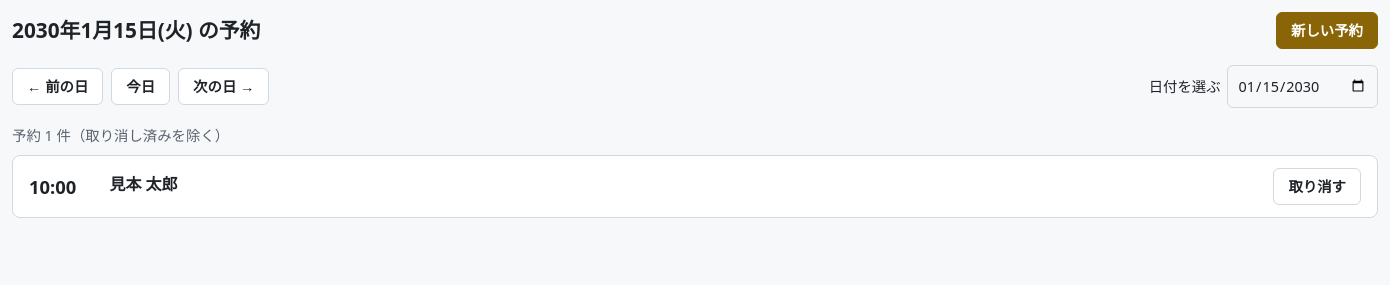
予約の一覧 › 取り消しは確認してから行い、結果を一覧に反映する
Note: 1回押しただけでは取り消さない
Click the button "取り消す" at coordinates (1317, 187), box left=1273, top=168, right=1361, bottom=205
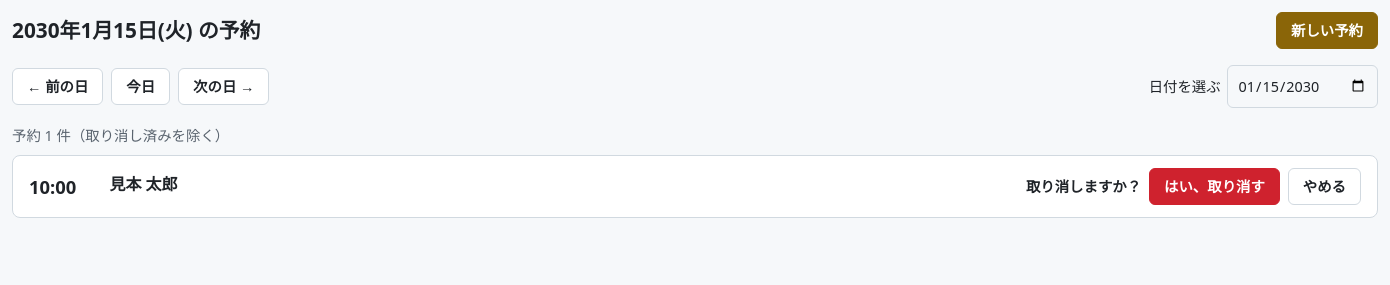
Now the list item with test id "reservation-1" shows "取り消しますか？", box left=1026, top=177, right=1141, bottom=196
Click the button with class "btn-danger" at coordinates (1214, 187), box left=1149, top=168, right=1280, bottom=205
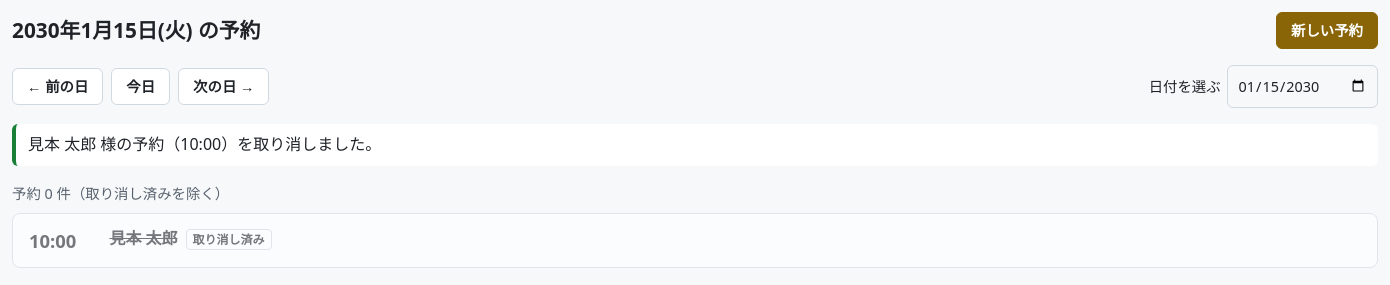
Now the list item with test id "reservation-1" shows "取り消し済み", box left=193, top=231, right=265, bottom=248
Now the message "見本 太郎 様の予約（10:00）を取り消しました。" is shown, box left=12, top=124, right=1378, bottom=166
